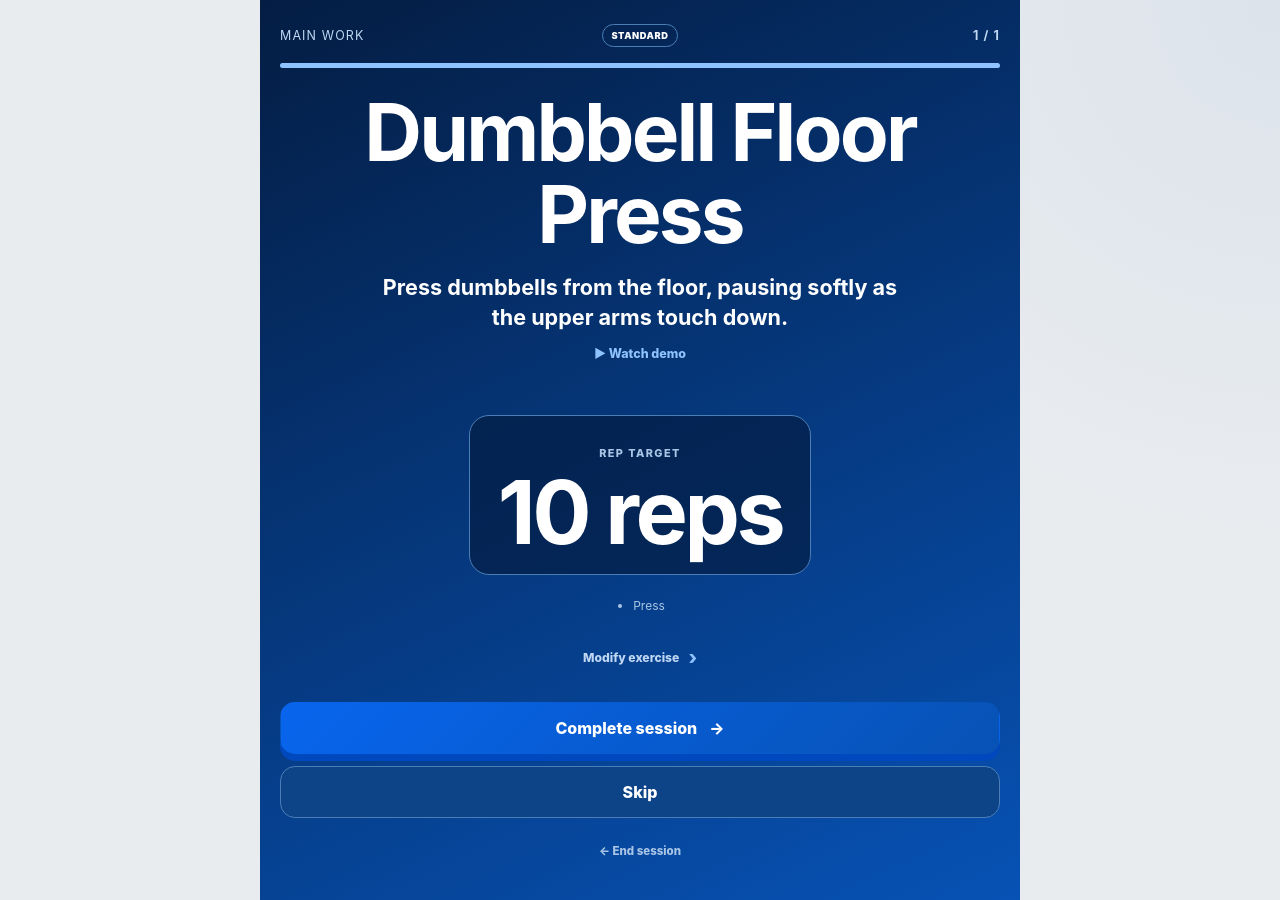
Test: offers an explicit issue after discomfort without diagnosing an injury
Click the button "Complete session →": (640, 728) x1=280 y1=702 x2=1000 y2=754
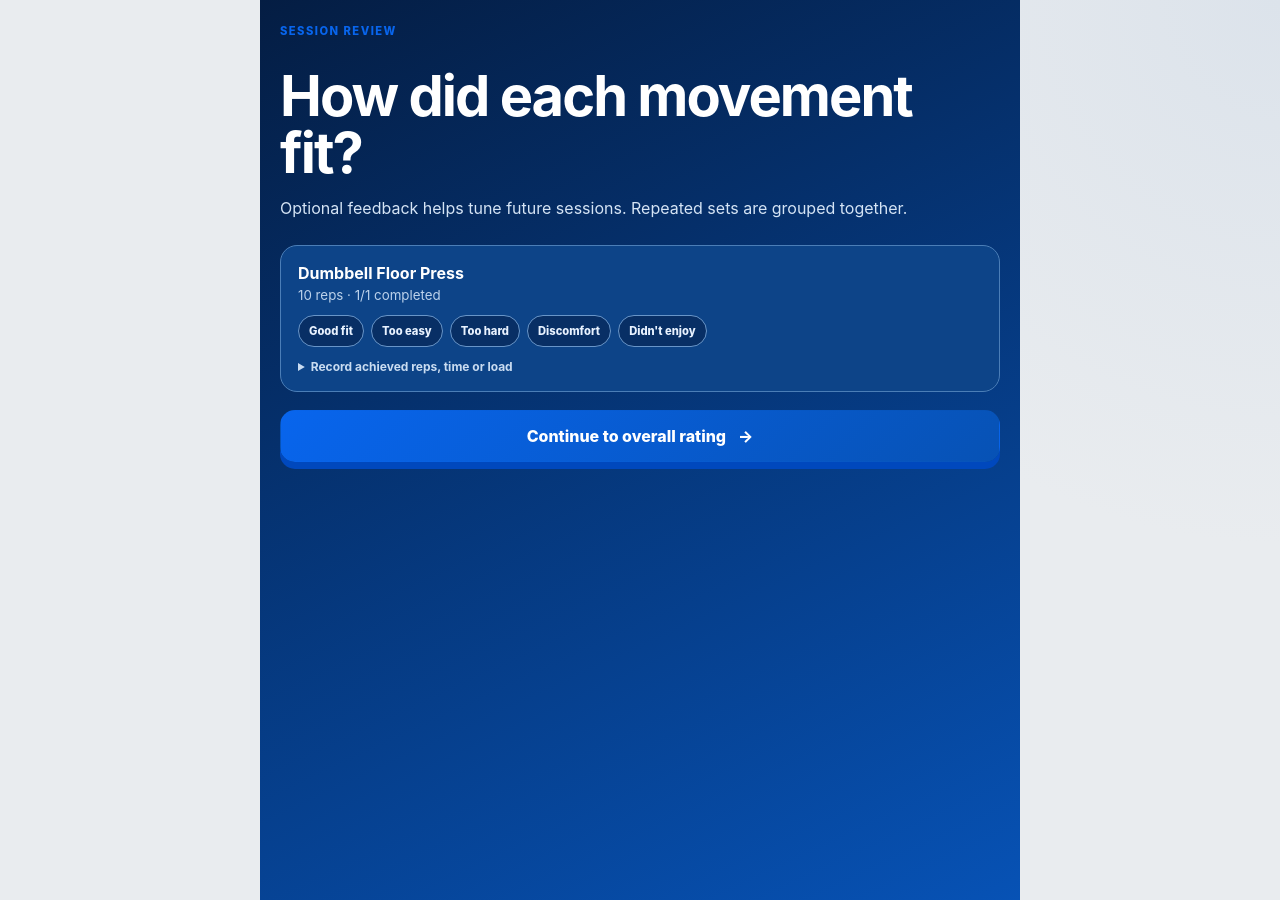
Click the button "Discomfort": (569, 331) x1=527 y1=315 x2=611 y2=347
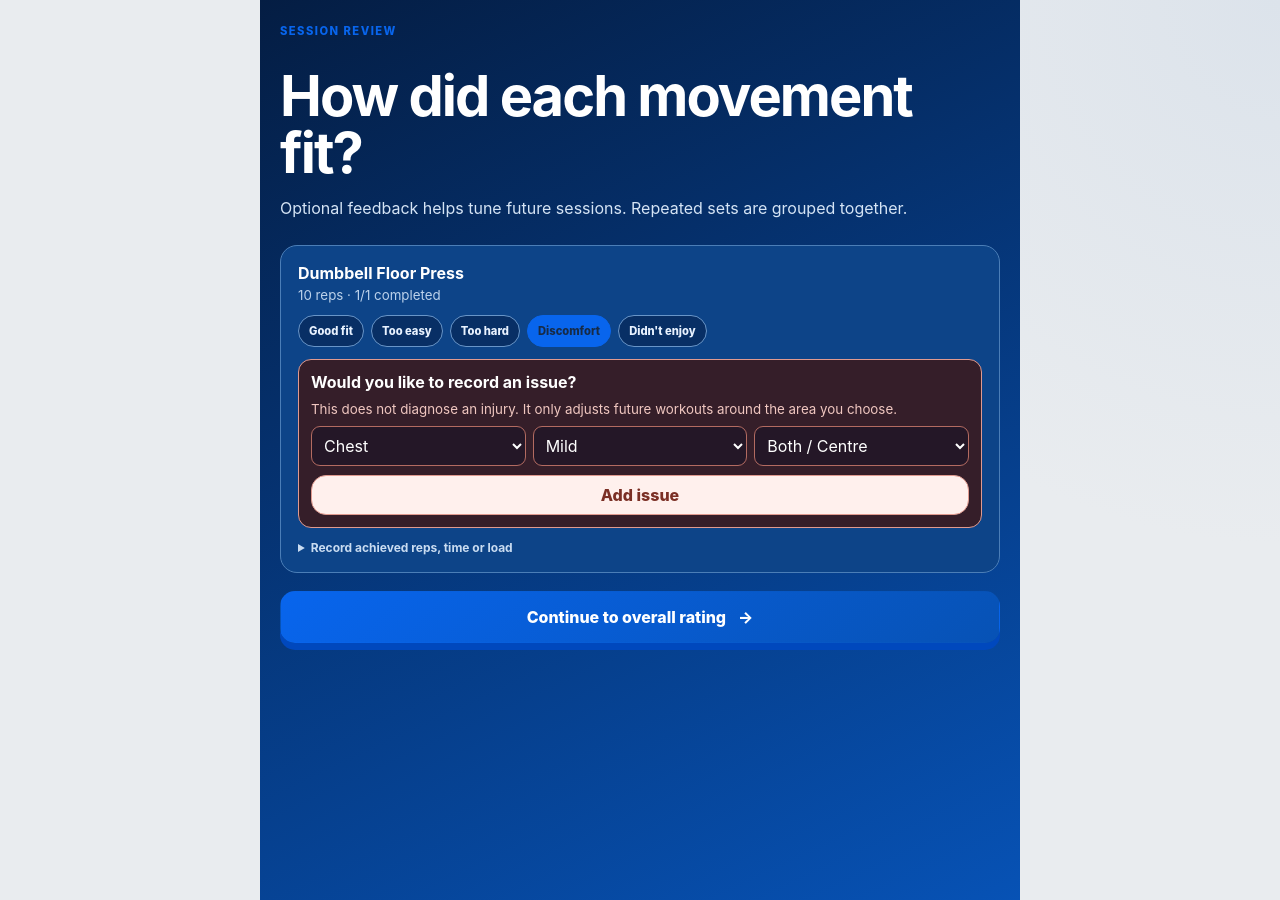
expect the text "does not diagnose an injury" is shown: met, box x1=311 y1=401 x2=897 y2=417
Select "Moderate" in the dropdown named "issue severity": (640, 446) x1=533 y1=426 x2=747 y2=466
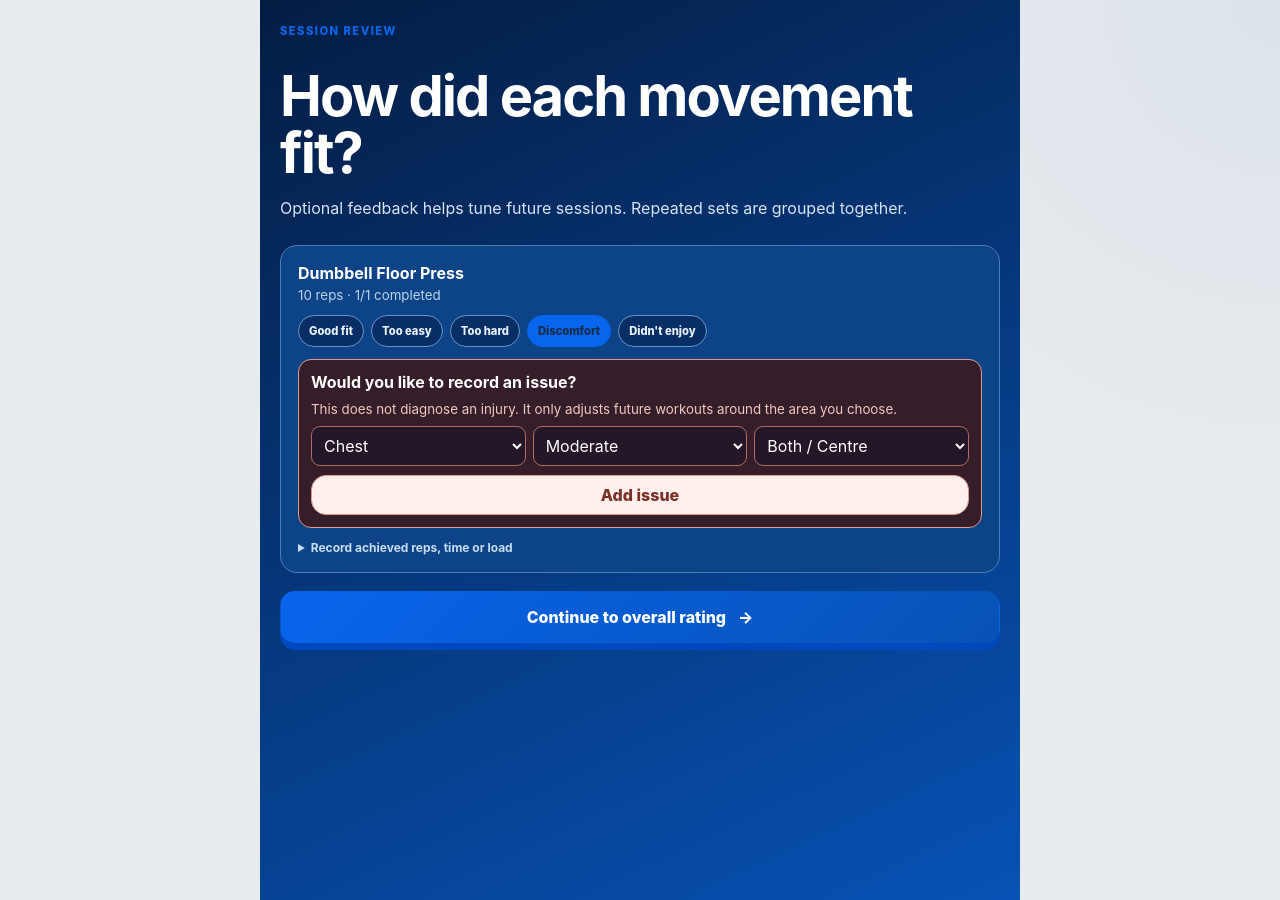
Select "Left" in the dropdown named "issue side": (862, 446) x1=754 y1=426 x2=969 y2=466
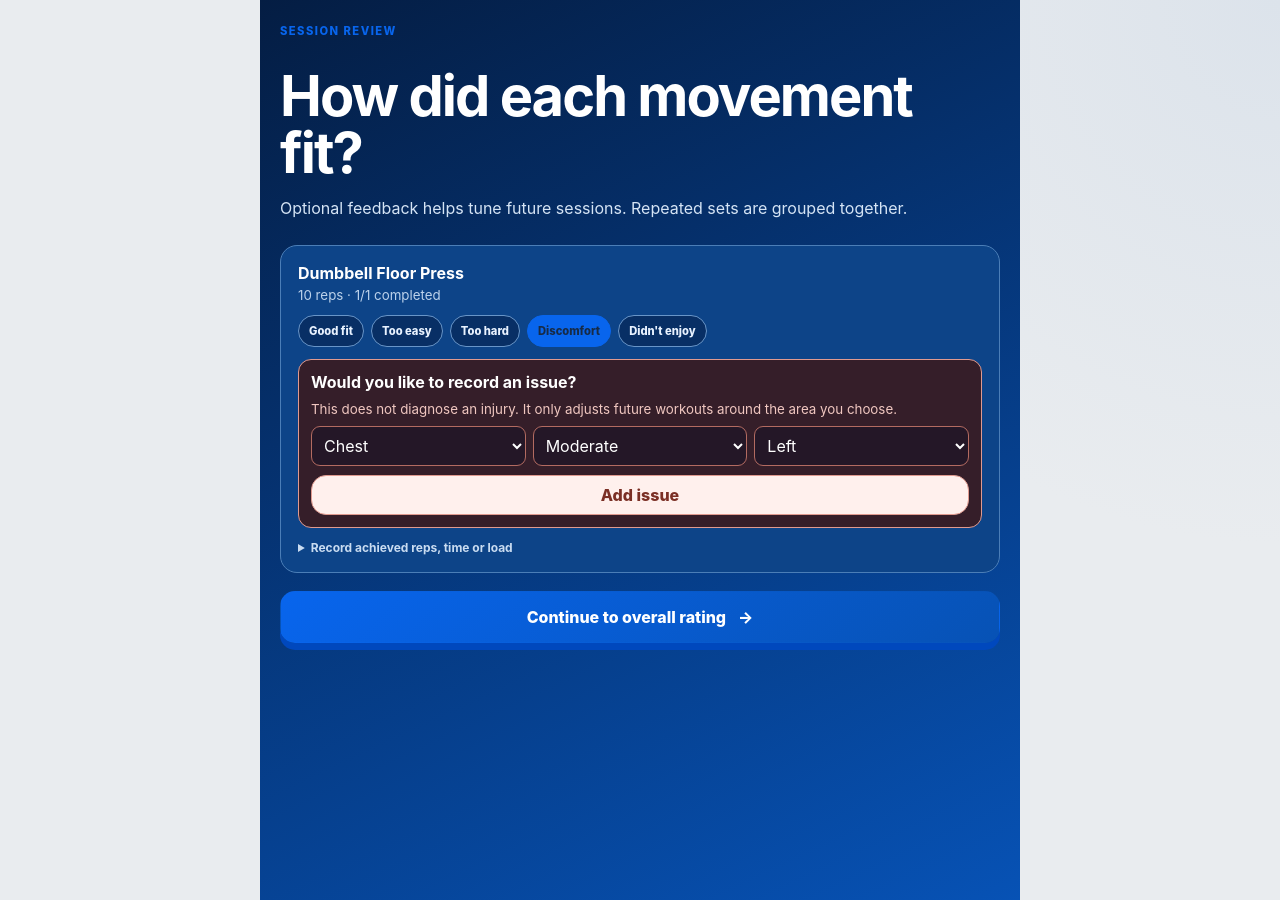
Click the button "Add issue": (640, 495) x1=311 y1=475 x2=969 y2=515
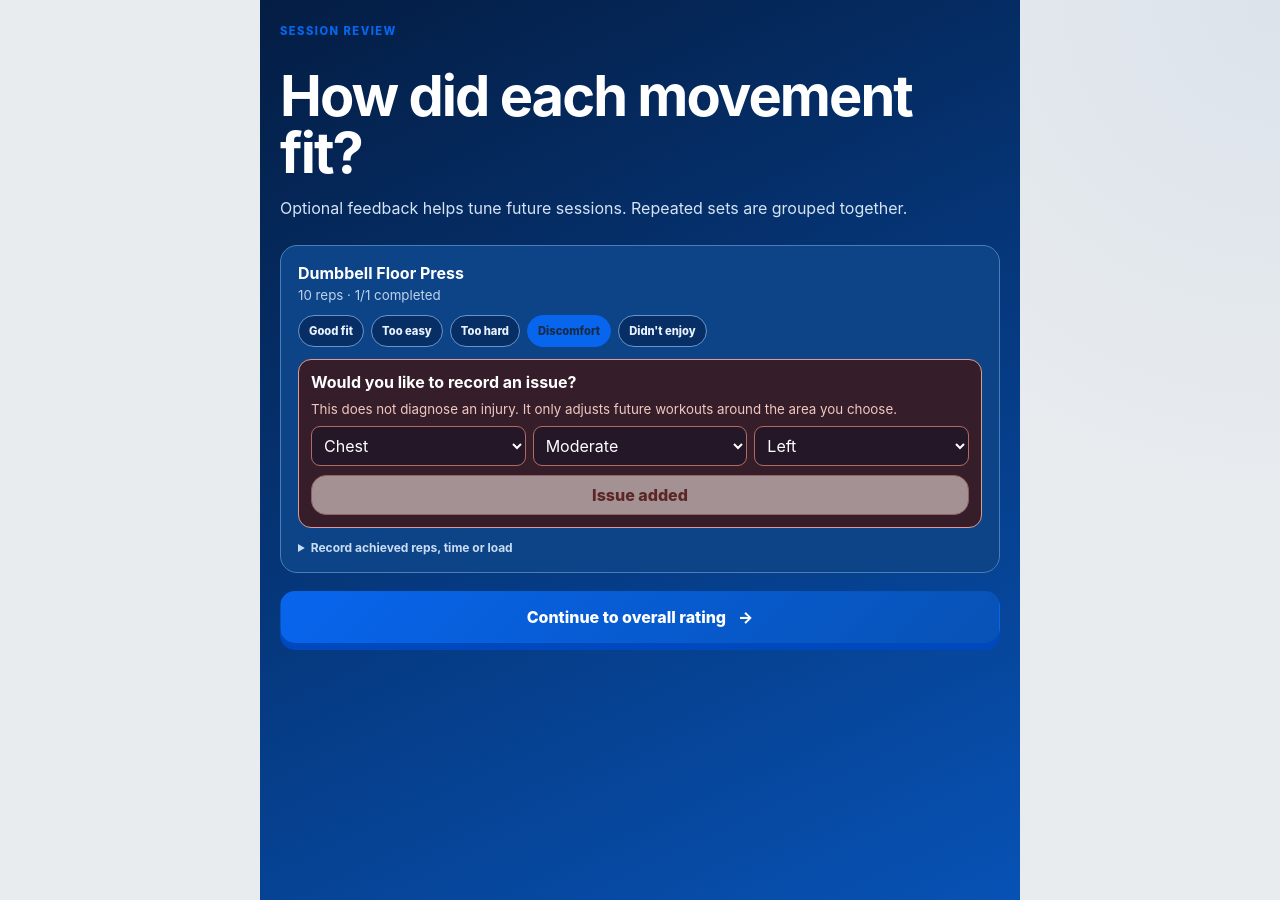
expect the button "Issue added" is disabled: met, box x1=311 y1=475 x2=969 y2=515
